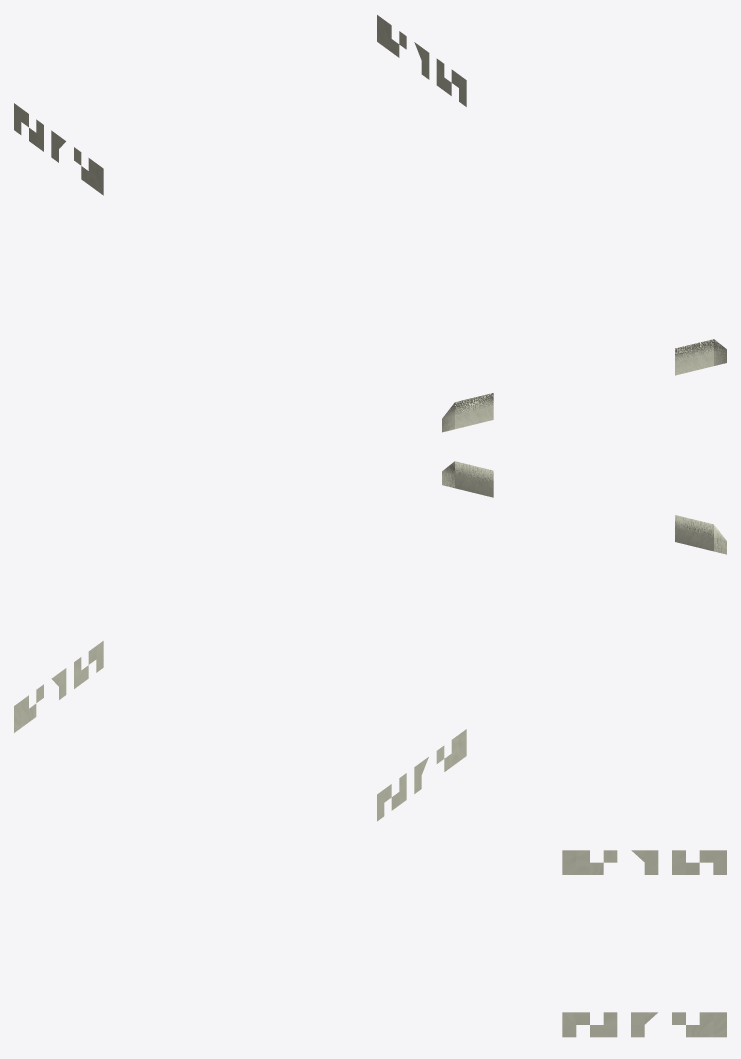
The picture shows the model from 3 angles, top to bottom: view 1: azimuth 30°, elevation 25°; view 2: azimuth 150°, elevation 25°; view 3: azimuth 270°, elevation 25°; orthographic projection. The views are drawn at different scales.
Bounding box in the file's own units: 2.24 × 0.32 × 4.16.
Materials: 1 (1 with a texture image).
